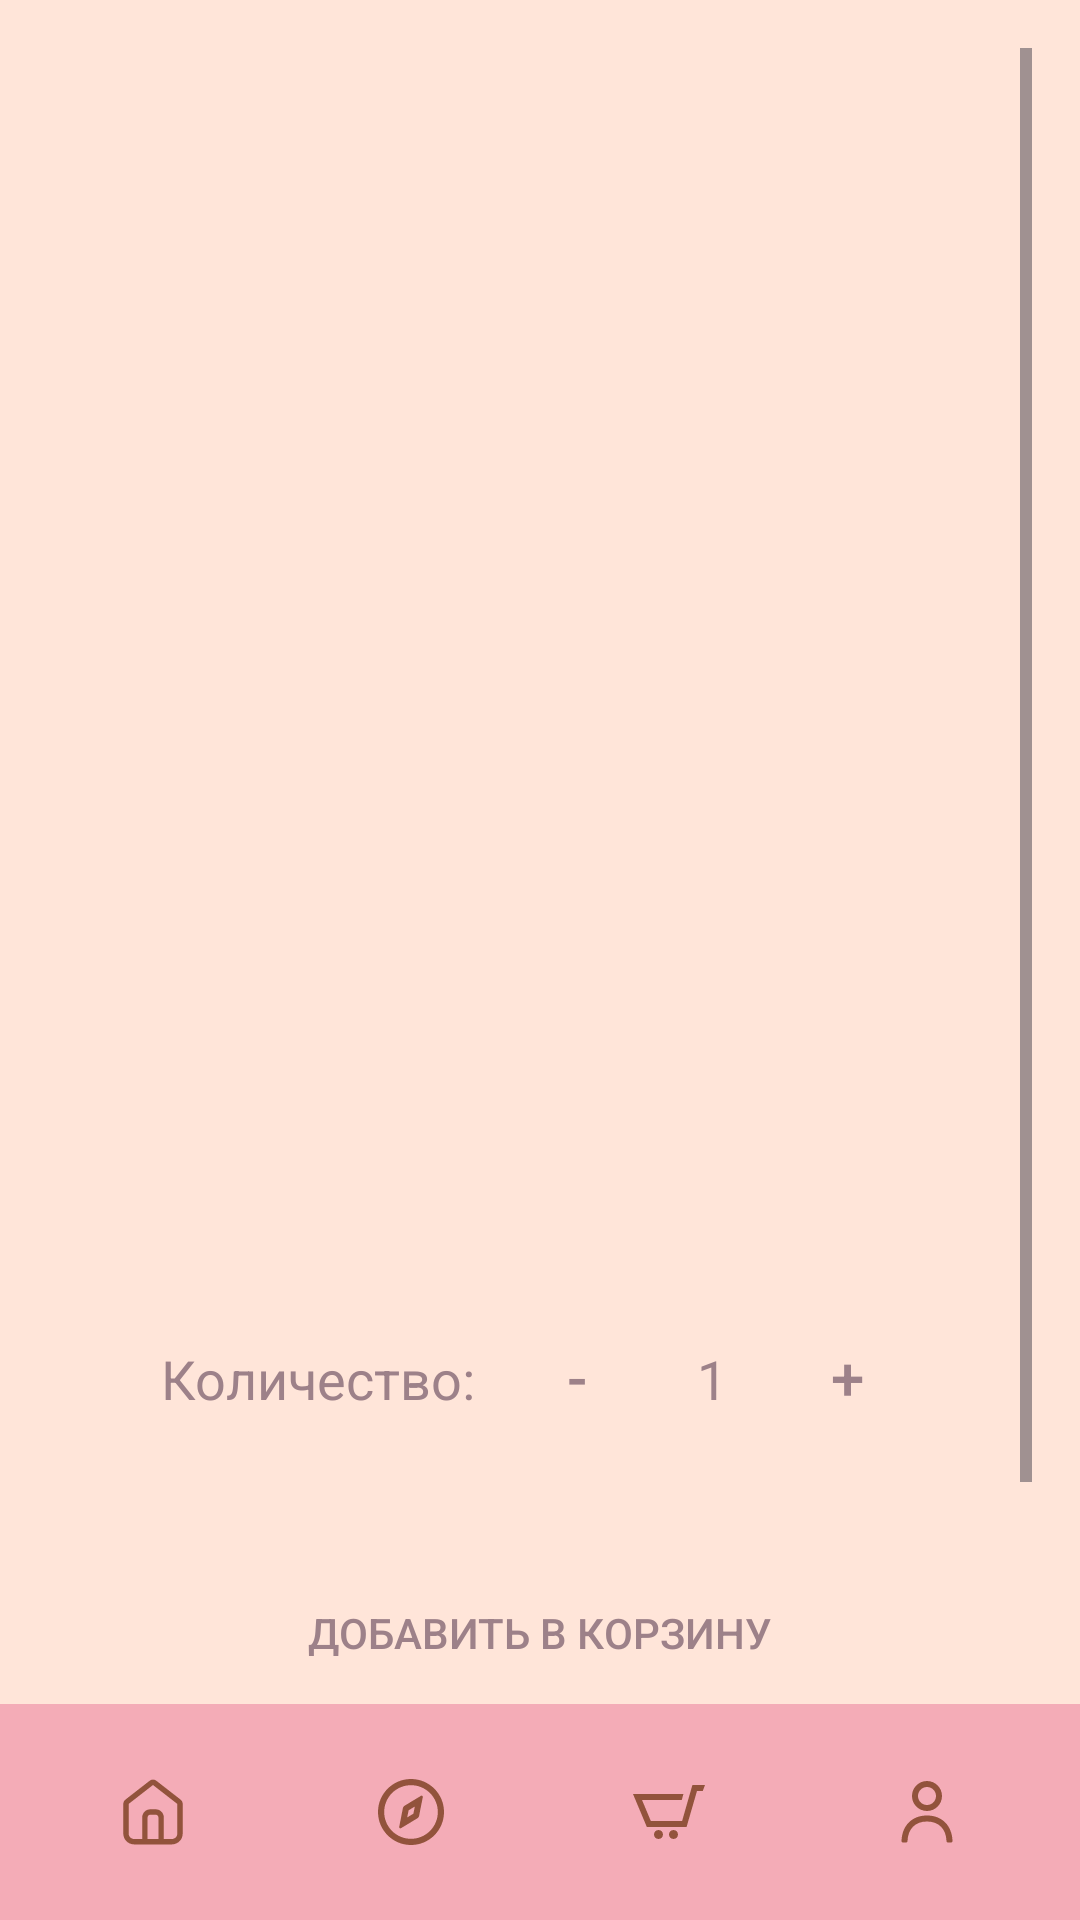

Icon bounding boxes for this 1080x1920 phone screenshot, format (x1, y1, x2, y2):
basket: (633, 1785, 705, 1839)
catalog: (378, 1779, 444, 1845)
home: (123, 1779, 183, 1845)
profile: (901, 1781, 953, 1843)
